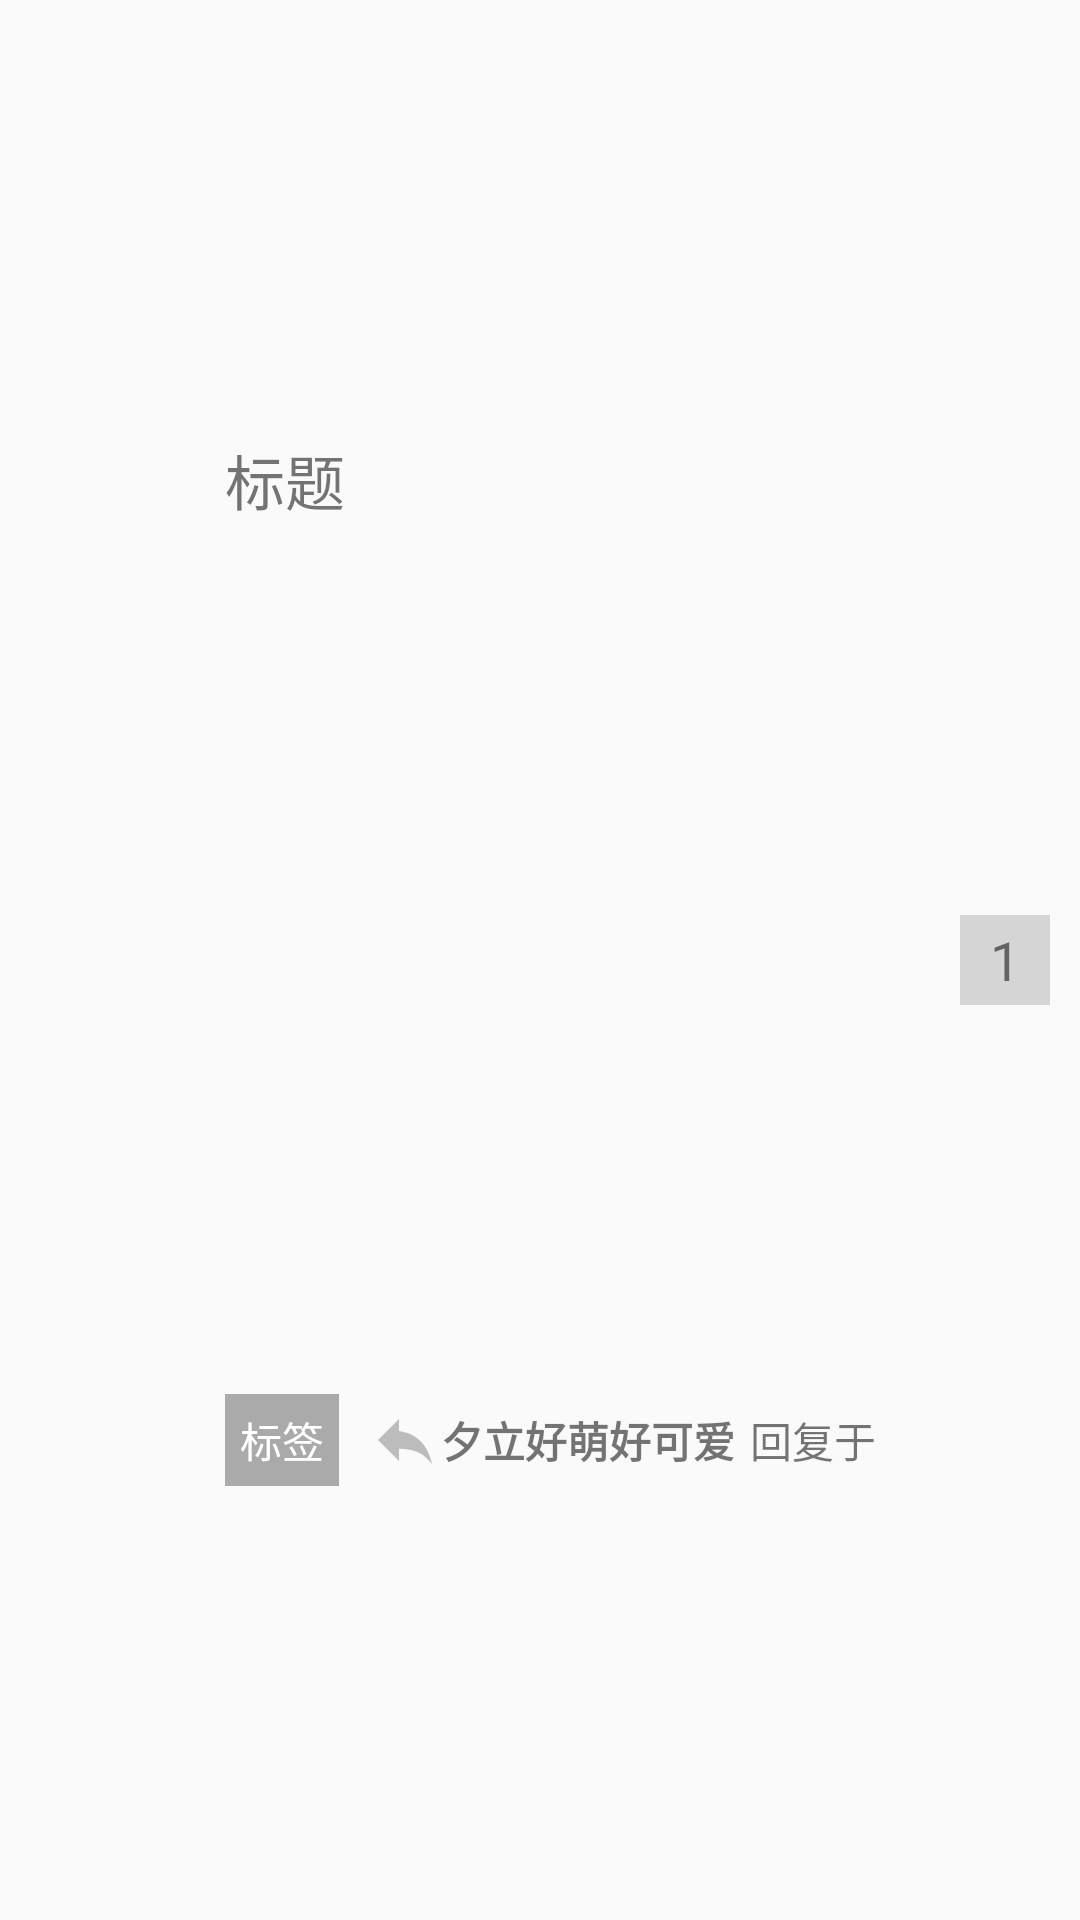

Icon bounding boxes for this 1080 × 1920 phone screenshot, format (x1, y1, x2, y2):
reply: (378, 1419, 432, 1463)
